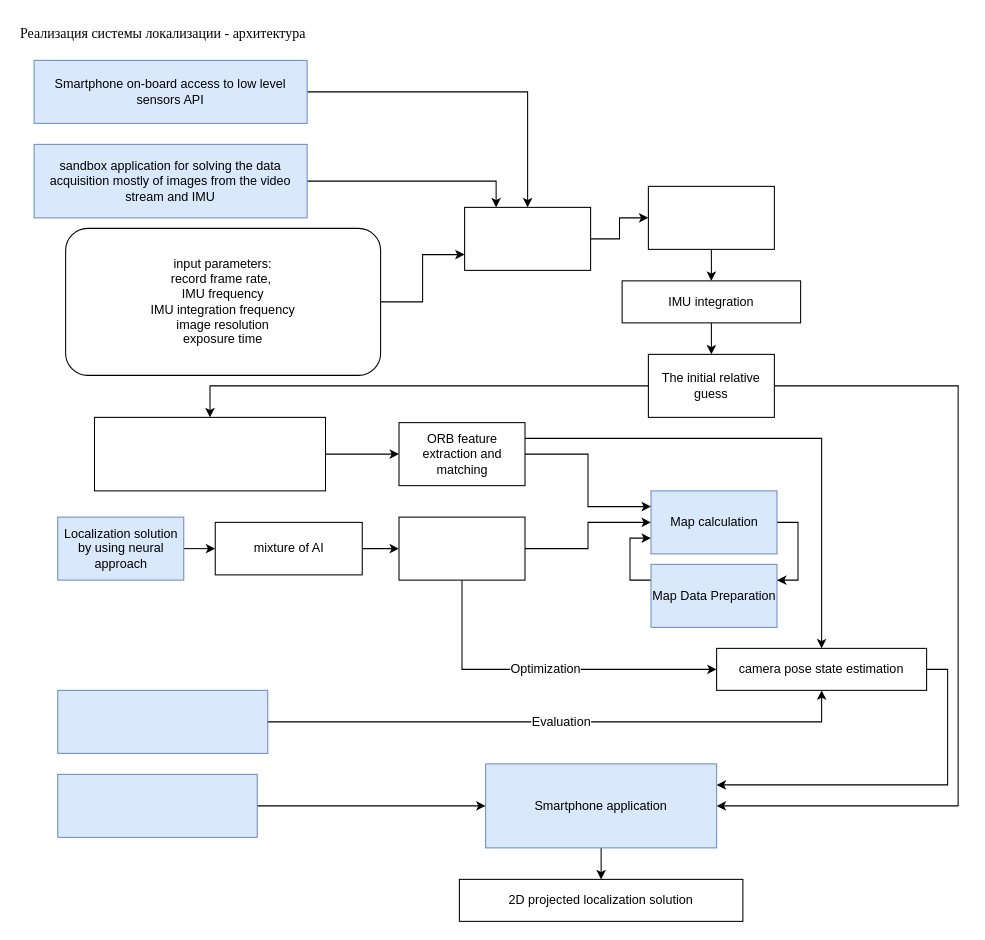
Some shapes in this 985 by 940 pixel diagram are drawn without their labels. Here are the shapes that lost their labels. From the top down, the box of each, then its label:
(647, 185, 774, 249): video stream and IMU measurements
(464, 206, 591, 270): data acquisition
(93, 416, 326, 491): visual-SLAM technique: stereo ORB-SLAM
(398, 516, 525, 580): feature extraction and matching
(57, 689, 268, 753): Confidence measure of the quality of localization,
(57, 773, 257, 837): Global Localization
